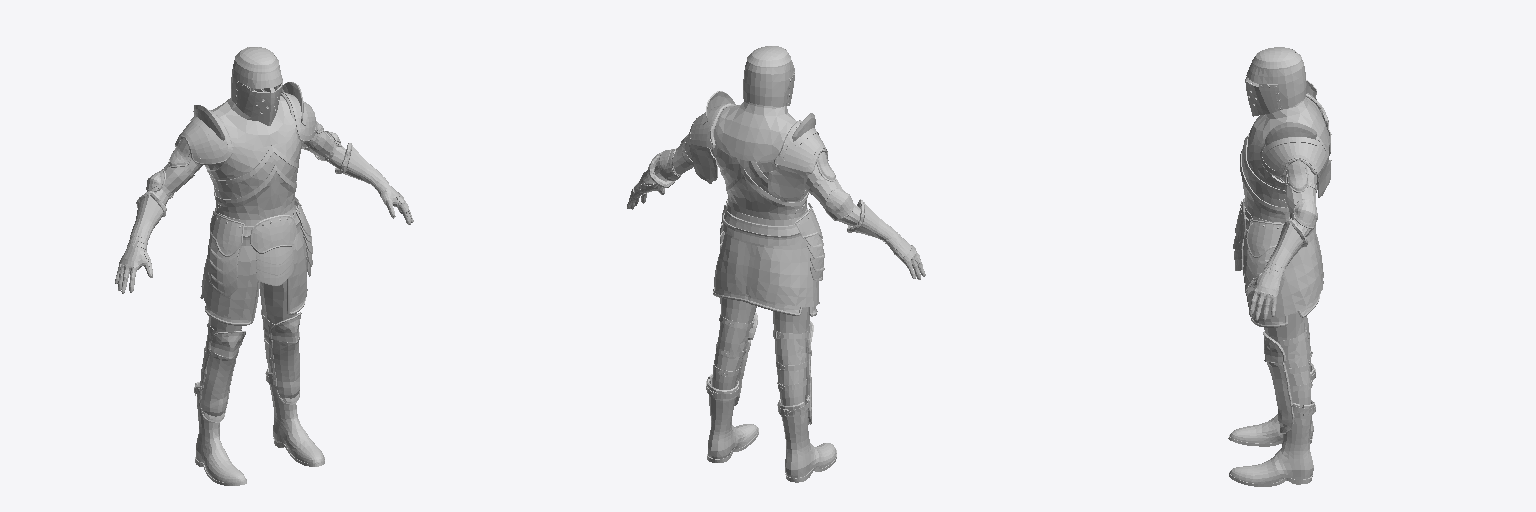
File: Armour.obj
3 renders of one model, left to right at view 1: azimuth 30°, elevation 25°; view 2: azimuth 150°, elevation 25°; view 3: azimuth 270°, elevation 25°, orthographic.
Visible parts, largest first — view 1: Soi_SimpleArmor_Plane.381, Soi_SimpleArmor_Kneeguards_Plane.396, Soi_SimpleArmor_Boots_Plane.395, Soi_SimpleArmor_Gloves_Plane.389, Soi_SimpleArmor_Spaulders_Plane.390, Soi_SimpleArmor_Helmet_Plane.419, Soi_SimpleArmor_Sideguards_Plane.394, Soi_SimpleArmor_Frontuards_Plane.415, Soi_SimpleArmor_Hood_Plane.392; view 2: Soi_SimpleArmor_Plane.381, Soi_SimpleArmor_Spaulders_Plane.390, Soi_SimpleArmor_Boots_Plane.395, Soi_SimpleArmor_Hood_Plane.392, Soi_SimpleArmor_Helmet_Plane.419, Soi_SimpleArmor_Gloves_Plane.389, Soi_SimpleArmor_Kneeguards_Plane.396, Soi_SimpleArmor_Sideguards_Plane.394; view 3: Soi_SimpleArmor_Plane.381, Soi_SimpleArmor_Boots_Plane.395, Soi_SimpleArmor_Helmet_Plane.419, Soi_SimpleArmor_Spaulders_Plane.390, Soi_SimpleArmor_Gloves_Plane.389, Soi_SimpleArmor_Kneeguards_Plane.396, Soi_SimpleArmor_Hood_Plane.392, Soi_SimpleArmor_Sideguards_Plane.394, Soi_SimpleArmor_Frontuards_Plane.415.
Boxes of the visible parts, <box> form: Soi_SimpleArmor_Plane.381: <box>146,89,345,385</box>; Soi_SimpleArmor_Kneeguards_Plane.396: <box>194,309,301,422</box>; Soi_SimpleArmor_Boots_Plane.395: <box>195,368,324,485</box>; Soi_SimpleArmor_Gloves_Plane.389: <box>115,143,413,293</box>; Soi_SimpleArmor_Spaulders_Plane.390: <box>175,82,316,170</box>; Soi_SimpleArmor_Helmet_Plane.419: <box>231,47,282,125</box>; Soi_SimpleArmor_Sideguards_Plane.394: <box>208,197,312,296</box>; Soi_SimpleArmor_Frontuards_Plane.415: <box>250,215,296,285</box>; Soi_SimpleArmor_Hood_Plane.392: <box>211,84,295,151</box>; Soi_SimpleArmor_Plane.381: <box>654,134,864,405</box>; Soi_SimpleArmor_Spaulders_Plane.390: <box>687,91,828,201</box>; Soi_SimpleArmor_Boots_Plane.395: <box>707,374,836,482</box>; Soi_SimpleArmor_Hood_Plane.392: <box>714,100,797,161</box>; Soi_SimpleArmor_Helmet_Plane.419: <box>743,46,794,106</box>; Soi_SimpleArmor_Gloves_Plane.389: <box>627,152,925,279</box>; Soi_SimpleArmor_Kneeguards_Plane.396: <box>706,312,813,424</box>; Soi_SimpleArmor_Sideguards_Plane.394: <box>720,199,824,280</box>; Soi_SimpleArmor_Plane.381: <box>1240,134,1328,413</box>; Soi_SimpleArmor_Boots_Plane.395: <box>1228,363,1314,486</box>; Soi_SimpleArmor_Helmet_Plane.419: <box>1245,47,1306,116</box>; Soi_SimpleArmor_Spaulders_Plane.390: <box>1260,80,1331,197</box>; Soi_SimpleArmor_Gloves_Plane.389: <box>1245,219,1307,320</box>; Soi_SimpleArmor_Kneeguards_Plane.396: <box>1263,327,1315,433</box>; Soi_SimpleArmor_Hood_Plane.392: <box>1248,97,1329,147</box>; Soi_SimpleArmor_Sideguards_Plane.394: <box>1246,219,1284,297</box>; Soi_SimpleArmor_Frontuards_Plane.415: <box>1233,198,1245,270</box>.
Size of the model in its own units: 1.39 by 1.87 by 0.4245.